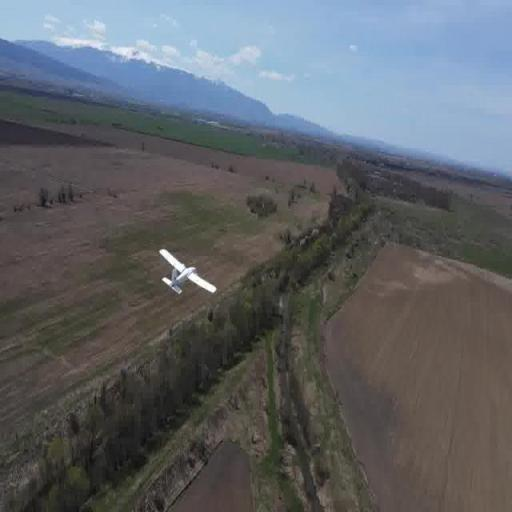uav: (154, 243, 220, 309)
